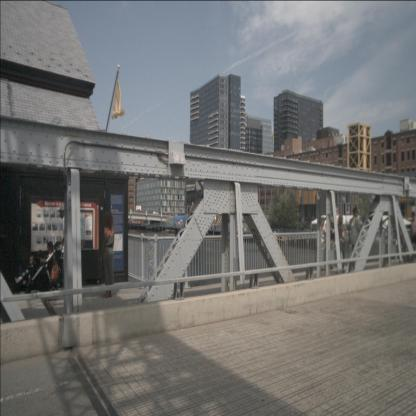human-pedestrian-adult: (58, 205, 73, 294), (100, 210, 114, 298), (348, 207, 364, 274), (336, 214, 346, 272), (328, 211, 336, 271), (410, 211, 416, 263)
